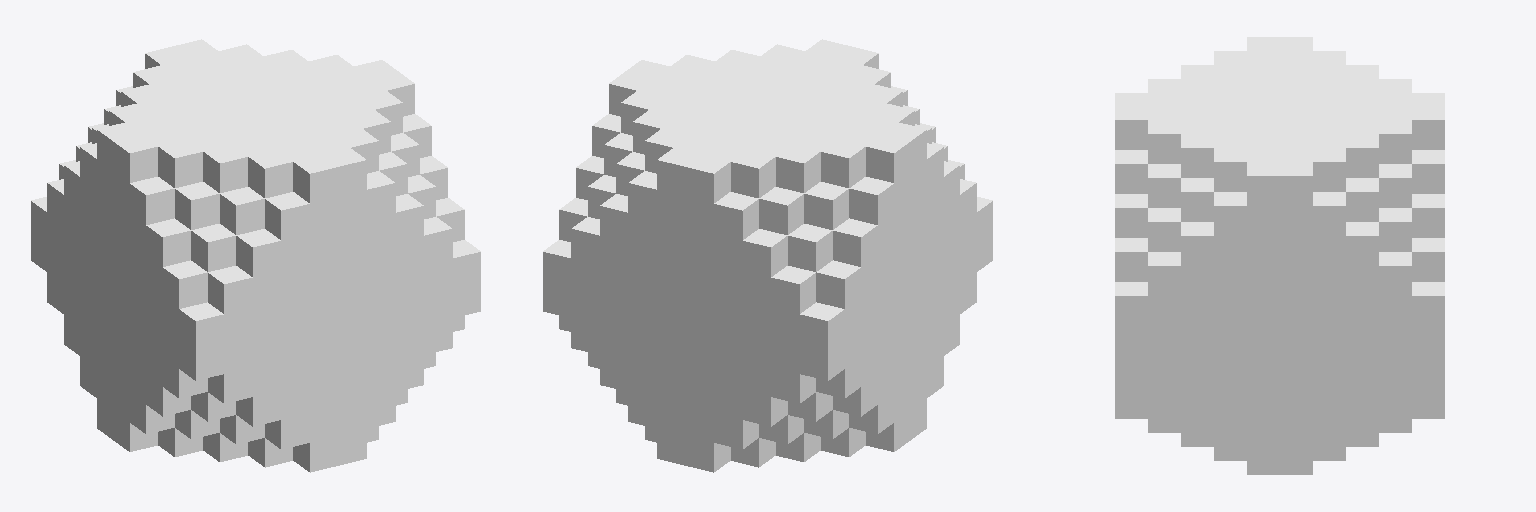
Rendered from Refresher.obj.
3 views of the same model, side by side, from view 1: azimuth 30°, elevation 25°; view 2: azimuth 150°, elevation 25°; view 3: azimuth 270°, elevation 25° (orthographic).
Visible parts, largest first — view 1: object 1; view 2: object 1; view 3: object 1.
Part boxes in pixels (left/top/right/bottom): object 1: left=31, top=39, right=480, bottom=472; object 1: left=543, top=39, right=992, bottom=472; object 1: left=1115, top=37, right=1444, bottom=474.
Bounding box in the file's own units: 1 × 1 × 1.